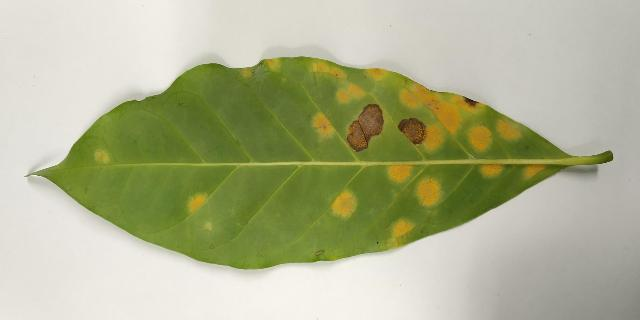miner: (398, 82, 486, 150), (346, 104, 384, 151), (384, 220, 412, 249), (309, 59, 345, 79), (331, 190, 356, 217), (417, 178, 440, 206), (337, 83, 366, 102), (469, 126, 491, 151), (366, 68, 400, 84), (313, 112, 335, 136), (188, 193, 209, 215), (388, 165, 412, 183), (498, 120, 520, 138), (526, 164, 545, 177), (265, 58, 281, 71), (482, 165, 501, 175), (95, 150, 109, 163), (242, 69, 250, 76), (205, 222, 211, 230)
